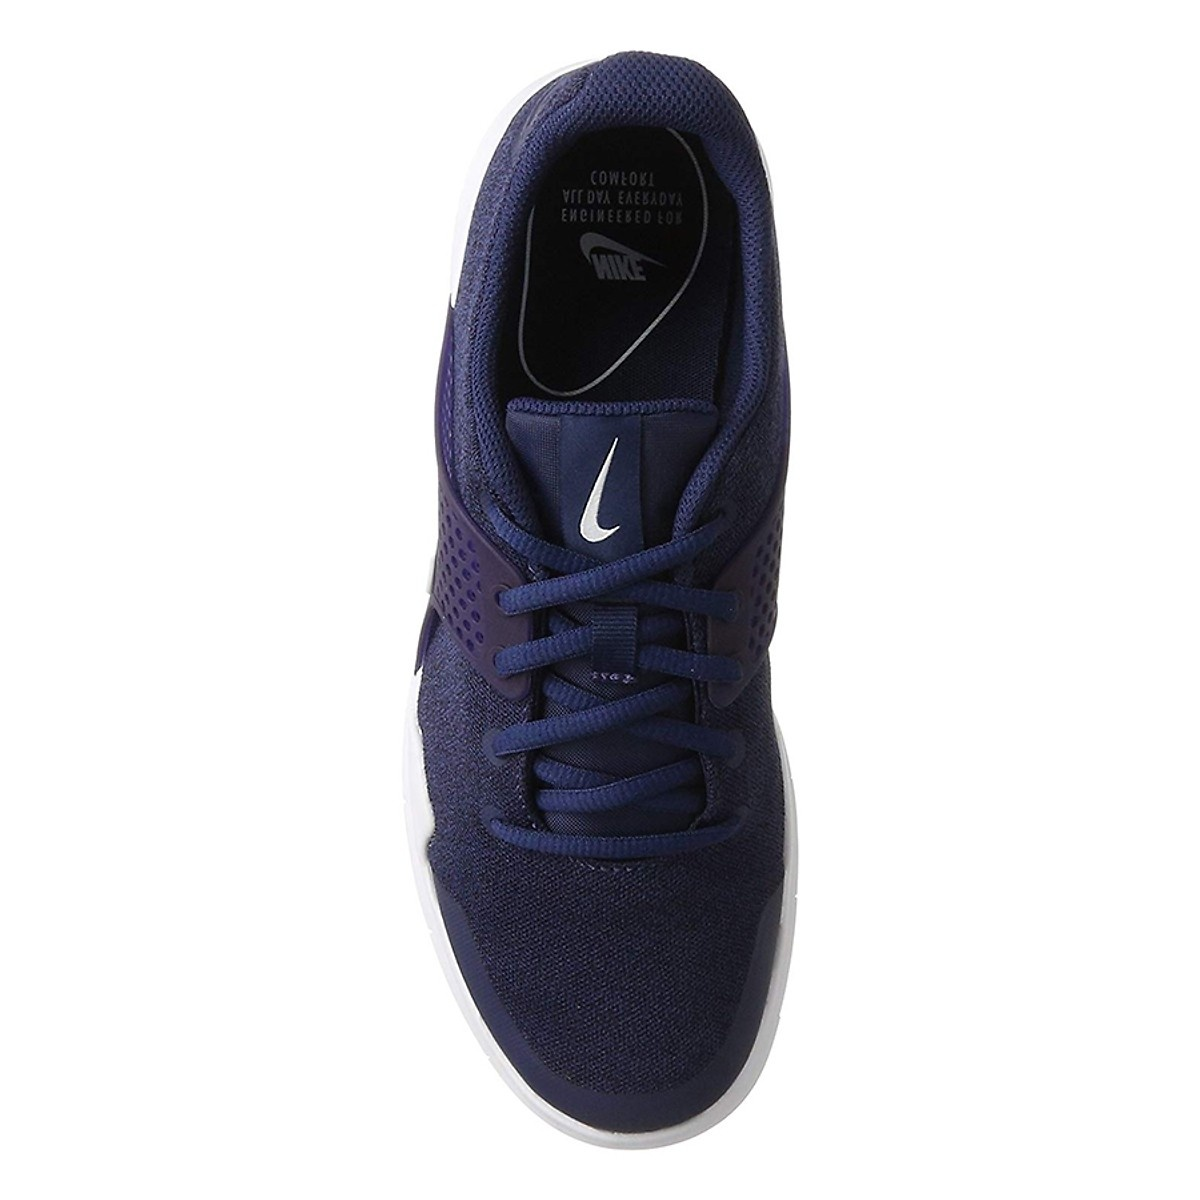Nike: (503, 122, 808, 305), (524, 409, 716, 588)
